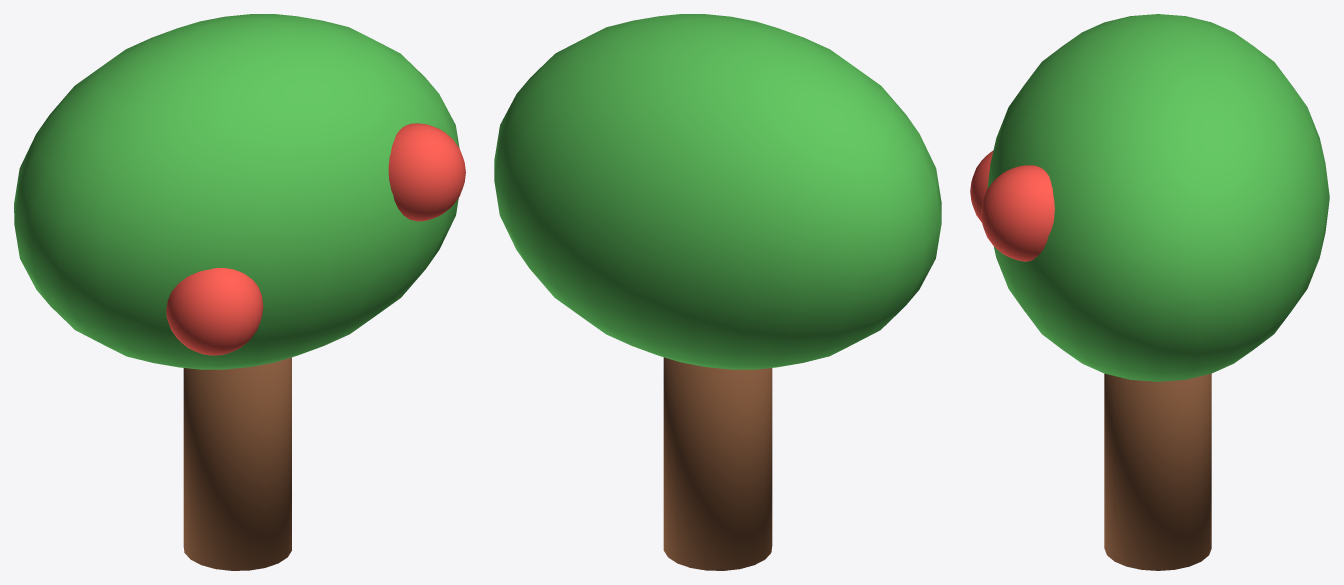
File: icon_shake.glb
3 renders of one model, left to right at view 1: azimuth 30°, elevation 25°; view 2: azimuth 150°, elevation 25°; view 3: azimuth 270°, elevation 25°, orthographic.
Visible parts, largest first — view 1: icon_shake; view 2: icon_shake; view 3: icon_shake.
Boxes of the visible parts, <box> form: icon_shake: <box>14,14,465,570</box>; icon_shake: <box>494,14,941,570</box>; icon_shake: <box>970,14,1329,570</box>.
Size of the model in its own units: 0.44 by 0.52 by 0.335.
